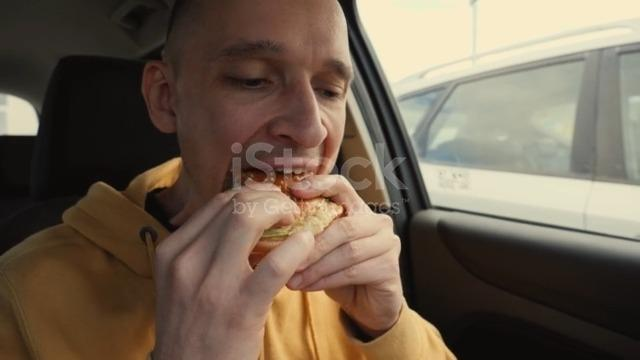Eating: (128, 2, 428, 304)
